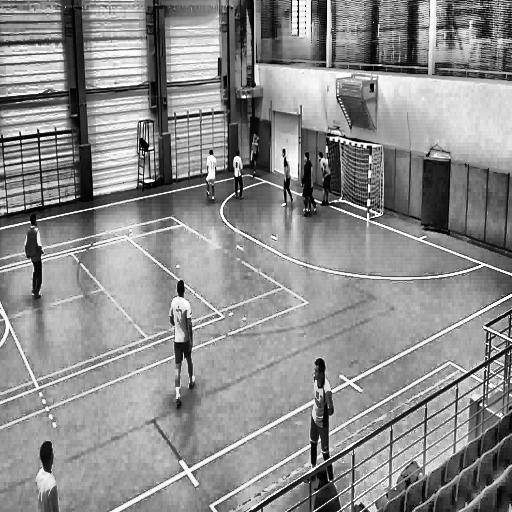player: (169, 278, 197, 412), (24, 212, 46, 302), (203, 148, 219, 208), (300, 151, 313, 218), (280, 148, 294, 209), (317, 151, 331, 208), (232, 148, 245, 202), (248, 130, 261, 180), (307, 160, 318, 215)
